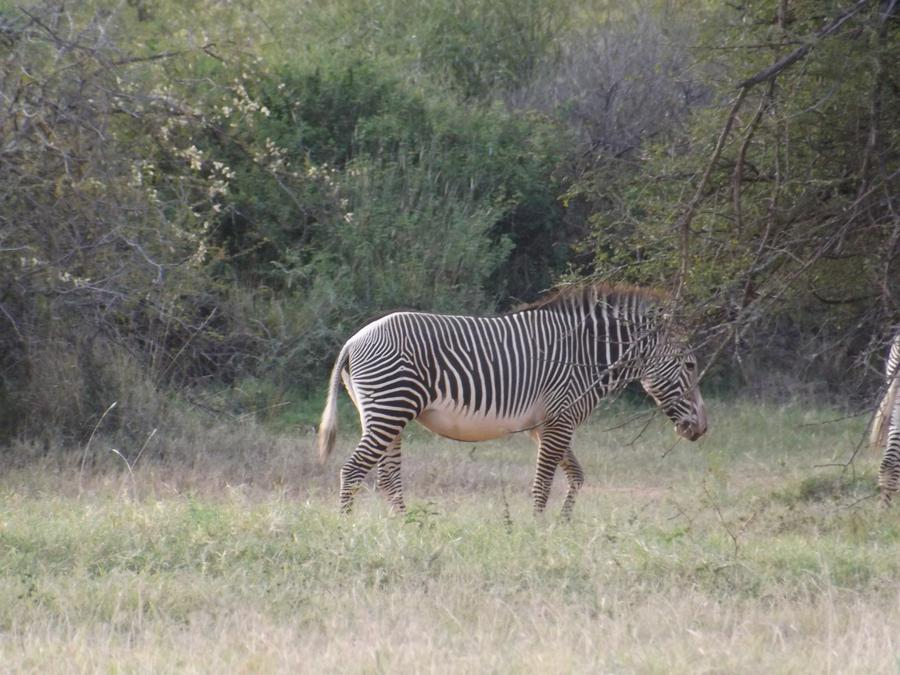zebra_grevys: (332, 308, 587, 431)
